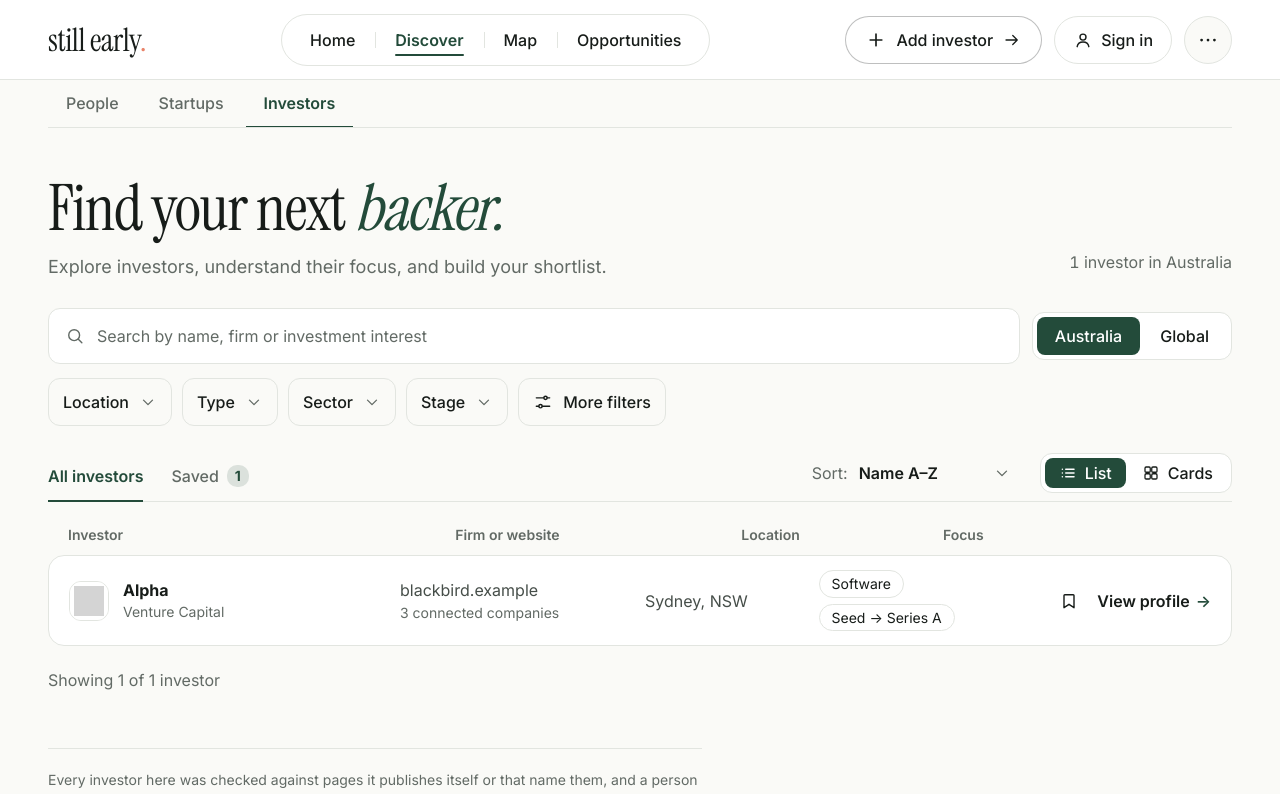
Test case: the investor directory › Australia and global › leaves the Saved tab to show what was saved wherever it is, whichever scope is on
Check: the link "Alpha" is shown, box [123,580,169,600]
Click the tab "Saved 1". click: click(210, 477)
box: [172,452,249,502]
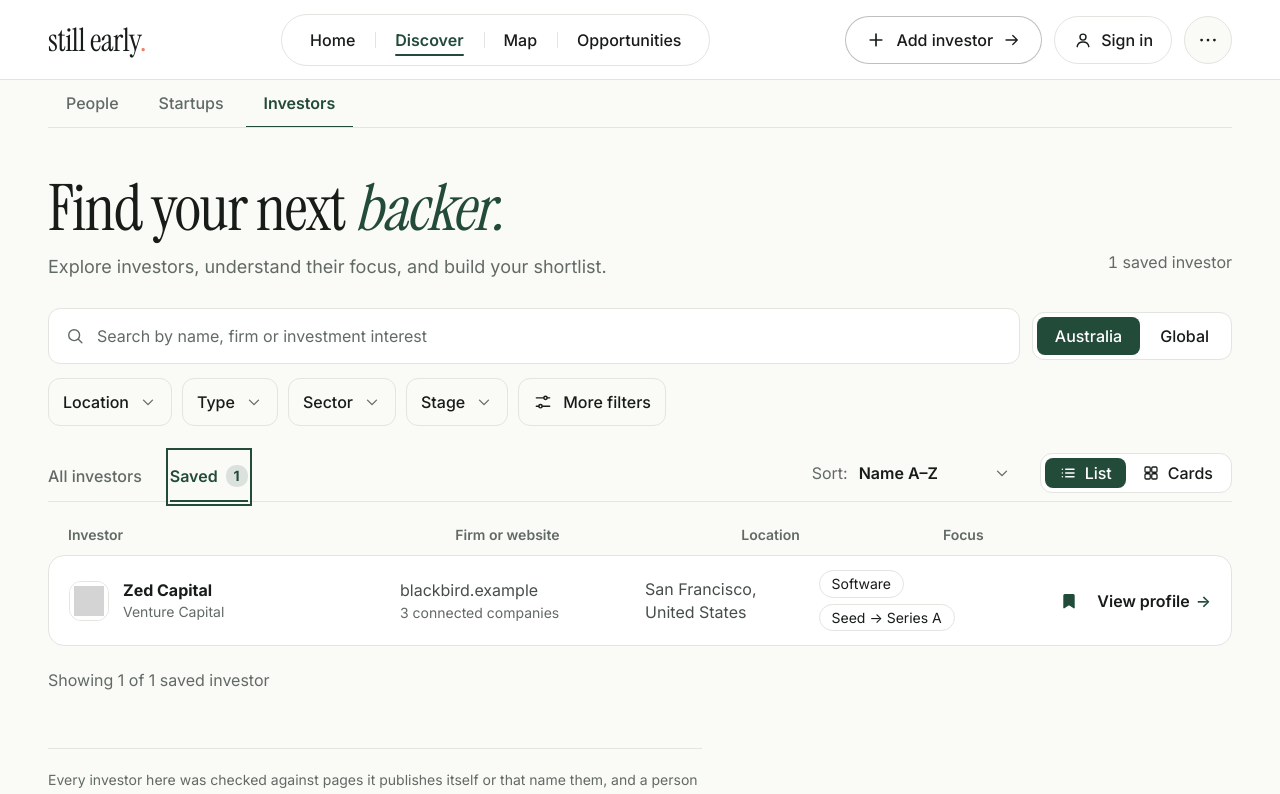
Check: the link "Zed Capital" is shown, box [123,580,212,600]
